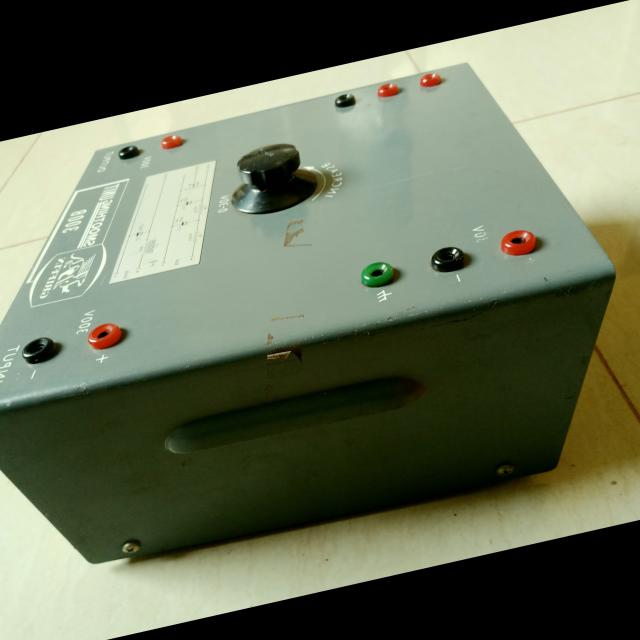Smoothing Unit: (0, 22, 640, 609)
